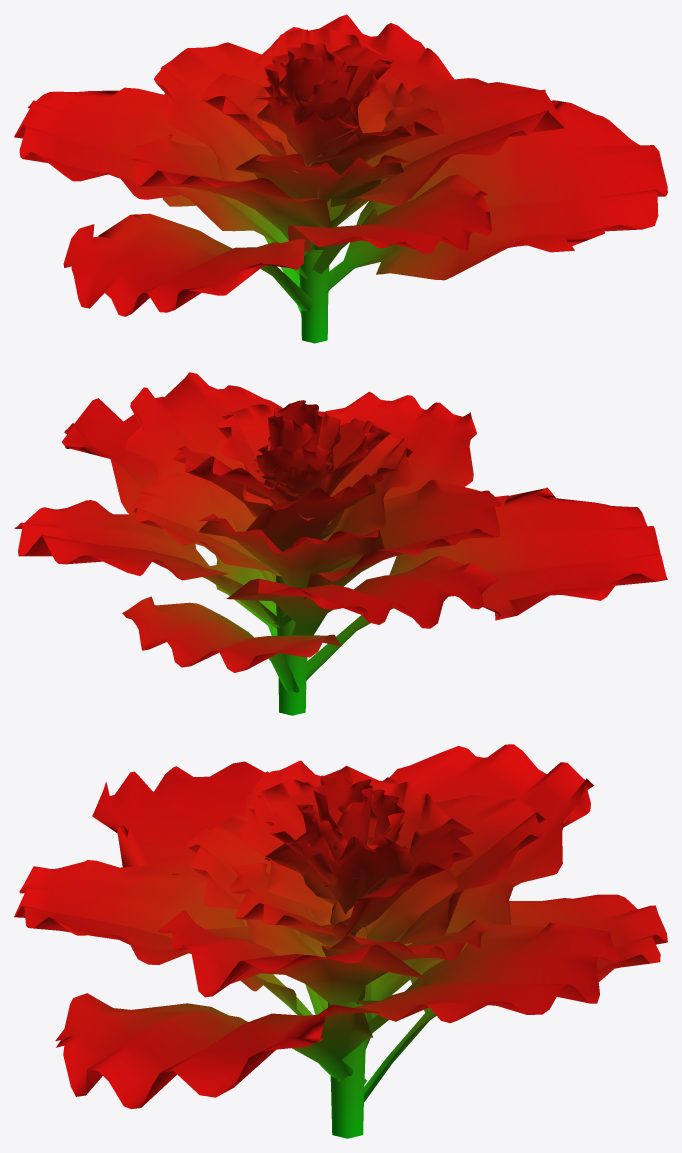
File: Purple Ornamental Kale_LOD0_Var7_ugdieawja.fbx
3 renders of one model, top to bottom at view 1: azimuth 30°, elevation 25°; view 2: azimuth 150°, elevation 25°; view 3: azimuth 270°, elevation 25°, orthographic. The views are drawn at different scales.
Parts seen in each view (by area): view 1: _2896_Var7_LOD0; view 2: _2896_Var7_LOD0; view 3: _2896_Var7_LOD0.
Boxes of the visible parts, x1,y1,x2,y2 form: _2896_Var7_LOD0: (14,14,667,343); _2896_Var7_LOD0: (14,372,667,715); _2896_Var7_LOD0: (14,744,667,1138).
Bounding box in the file's own units: 41.51 × 20.04 × 34.31.
